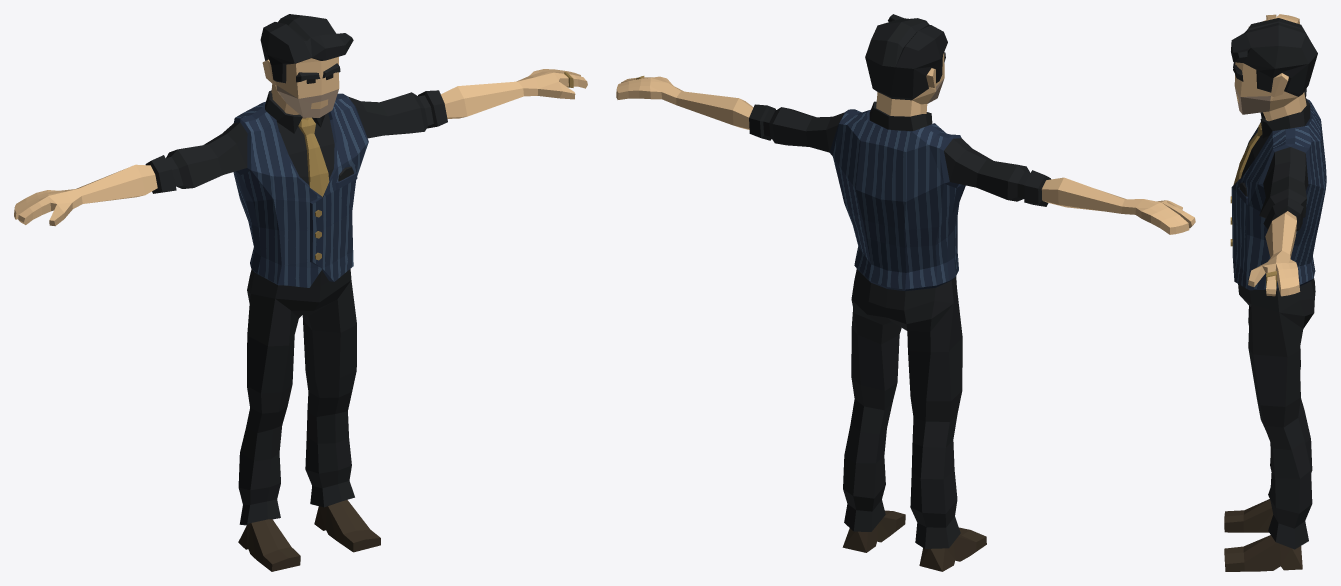
File: Mafiosi_02.fbx
3 views of the same model, side by side, from view 1: azimuth 30°, elevation 25°; view 2: azimuth 150°, elevation 25°; view 3: azimuth 270°, elevation 25° (orthographic).
Parts seen in each view (by area): view 1: Mafiosi_02; view 2: Mafiosi_02; view 3: Mafiosi_02.
Part boxes in pixels (box(x1,y1,x2,y2)): Mafiosi_02: box(14, 14, 587, 571); Mafiosi_02: box(616, 14, 1195, 571); Mafiosi_02: box(1224, 14, 1326, 571).
Bounding box in the file's own units: 2.02 × 1.78 × 0.3171.
